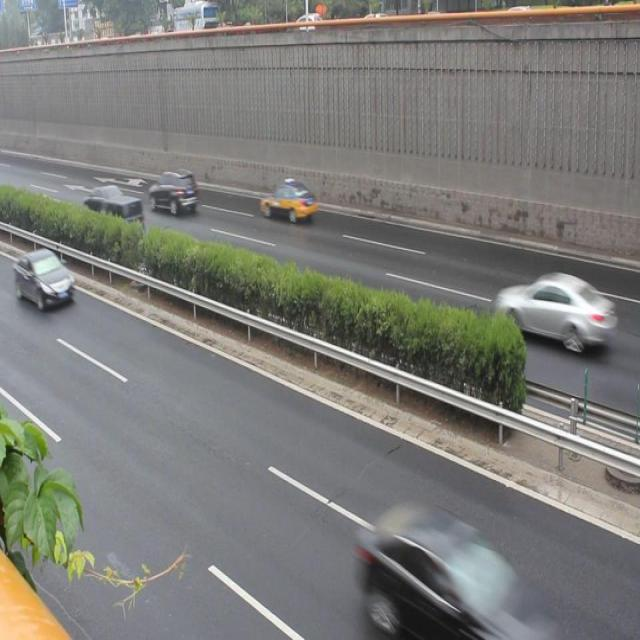car: (349, 493, 528, 640), (489, 265, 610, 366), (12, 246, 76, 316), (85, 175, 146, 241), (147, 162, 202, 221), (260, 175, 318, 229)
